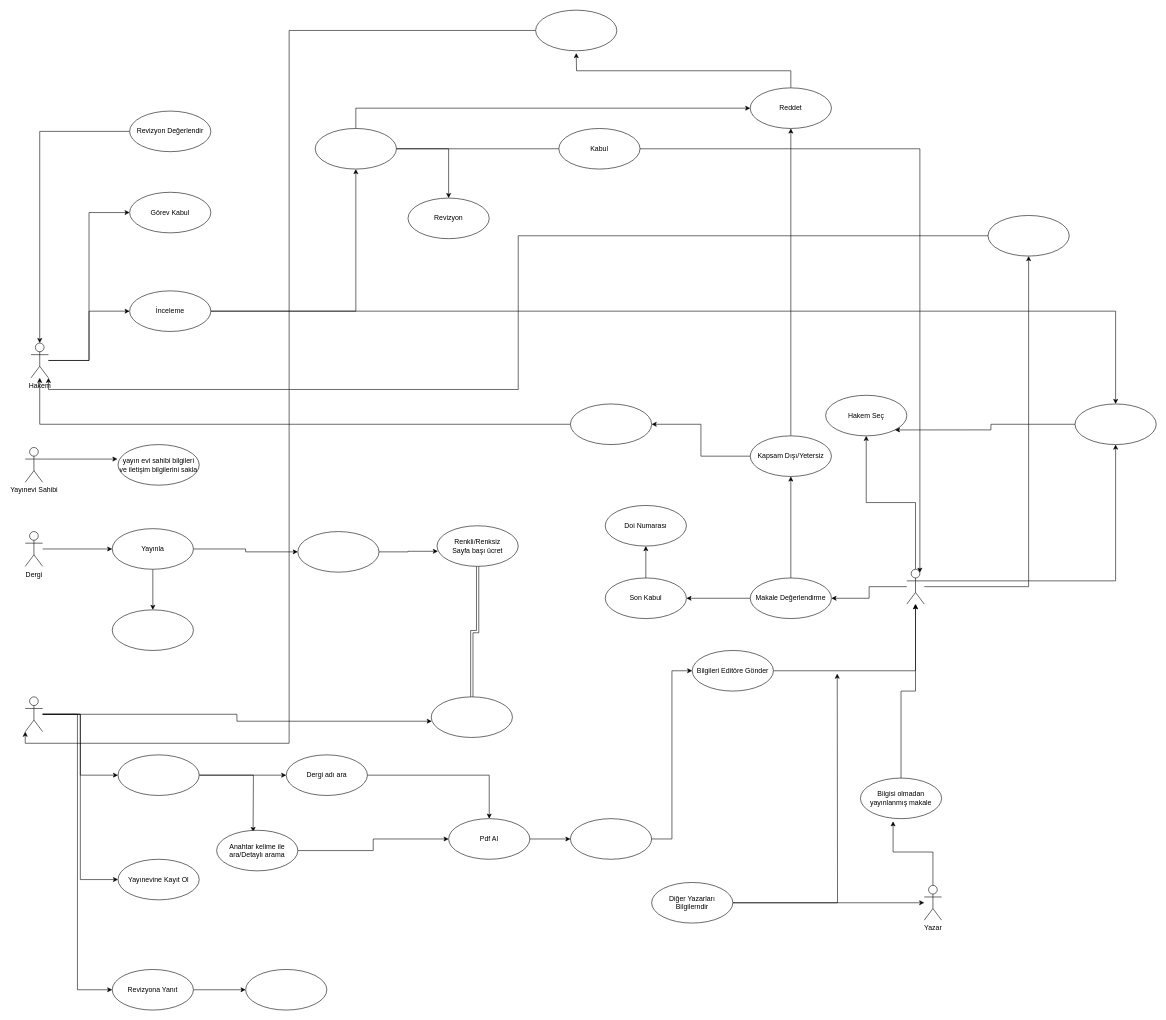
Some shapes in this 1166 by 1020 pixel diagram are drawn without their labels. Here are the shapes that lost their labels. From the top down, the centre of each, then its label:
point 576,30: Bilgilendir
point 355,148: Görüş
point 1028,235: Hakem Davet Et
point 611,424: Hakeme Gönder
point 1115,424: Hakem Değiştir
point 338,551: Ücretli yayın
point 915,586: Editör
point 152,629: ÜCretsiz yayın
point 34,714: Sorumlu Yazar
point 471,716: Makale bilgilerini aktar/Ödeme yap
point 158,774: Arama yap
point 611,838: Dergi Seç
point 286,989: Yeni Dosya Yükle
